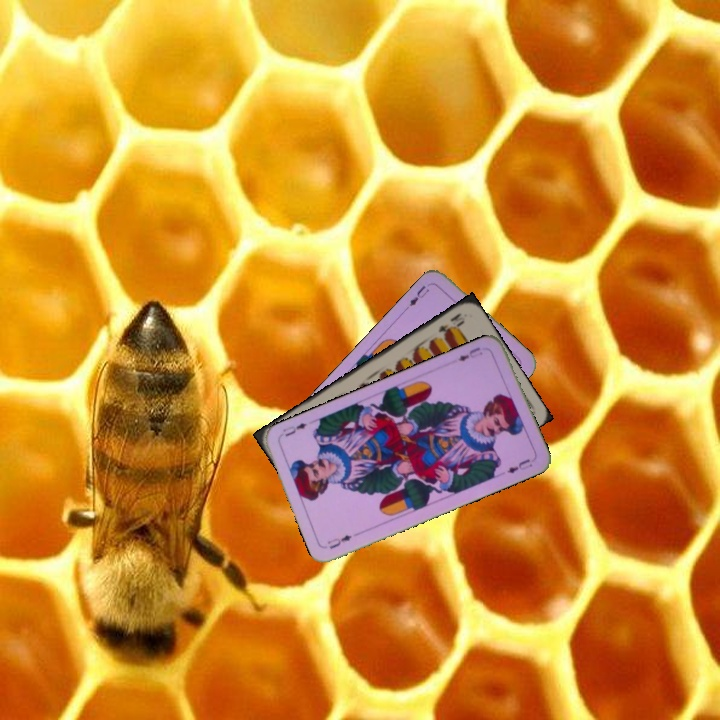E10: (434, 308, 467, 338)
EU: (405, 281, 432, 309), (454, 343, 485, 364), (323, 531, 354, 552)
